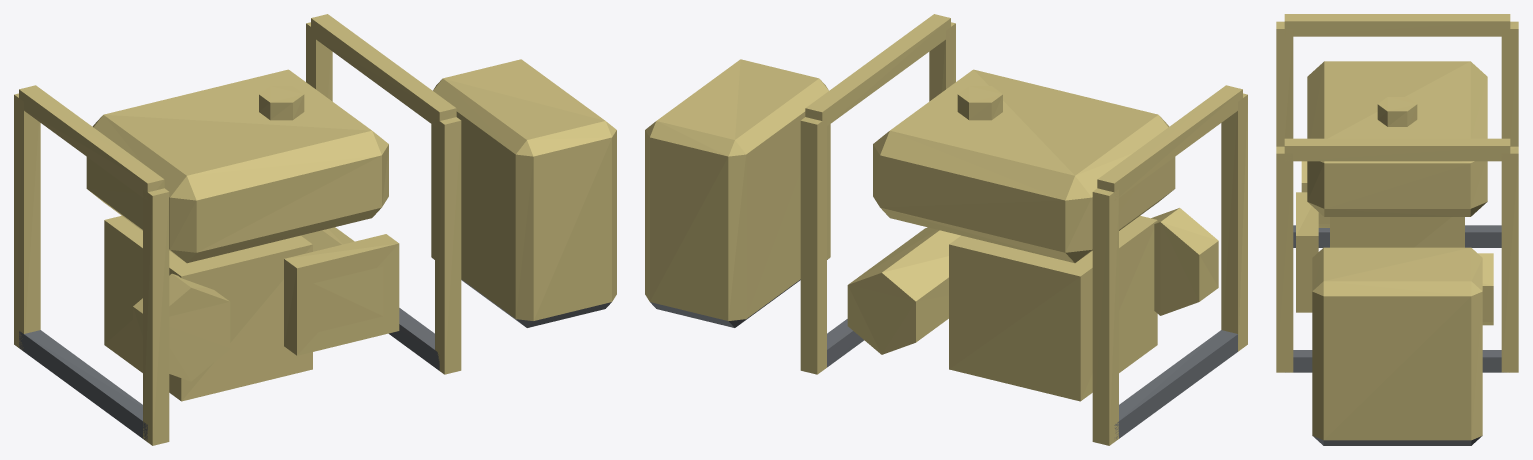
The model's file is generator-00.glb.
The picture shows the model from 3 angles, left to right: view 1: azimuth 30°, elevation 25°; view 2: azimuth 150°, elevation 25°; view 3: azimuth 270°, elevation 25°; orthographic projection. The views are drawn at different scales.
Parts seen in each view (by area): view 1: generator_00; view 2: generator_00; view 3: generator_00.
Part boxes in pixels (x1,y1,x2,y2): generator_00: (14,14,616,445); generator_00: (645,14,1247,445); generator_00: (1276,14,1518,445).
Size of the model in its own units: 0.8749 by 0.4404 by 0.427.
